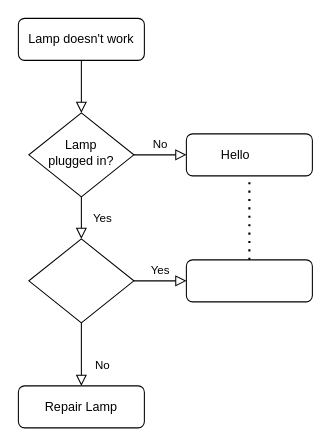
Some shapes in this 331 by 446 pixel diagram are drawn without their labels. Each missing label, with the centre of its shape:
"Bulb burned out?" belongs at pixel 81 280.
"Replace Bulb" belongs at pixel 248 280.
